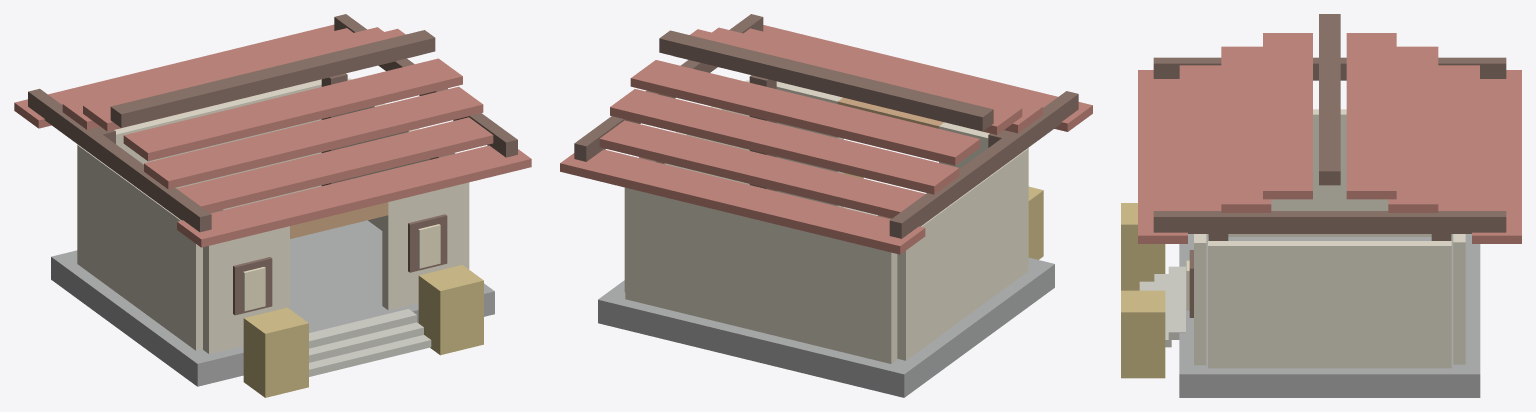
Rendered from granary_6m.glb.
The picture shows the model from 3 angles, left to right: view 1: azimuth 30°, elevation 25°; view 2: azimuth 150°, elevation 25°; view 3: azimuth 270°, elevation 25°; orthographic projection. The views are drawn at different scales.
Parts seen in each view (by area): view 1: roof_red, plaster, wood_dark, stone, straw, stone_light, paper, wood_light; view 2: roof_red, plaster, wood_dark, stone, straw, wood_light; view 3: roof_red, plaster, wood_dark, stone, straw, stone_light.
Part boxes in pixels (box(x1,y1,x2,y2)): roof_red: box(14, 24, 531, 247); plaster: box(77, 78, 469, 353); wood_dark: box(28, 14, 517, 315); stone: box(51, 220, 494, 386); straw: box(243, 265, 483, 397); stone_light: box(309, 309, 431, 376); paper: box(243, 224, 440, 311); wood_light: box(290, 202, 388, 238); roof_red: box(560, 25, 1092, 254); plaster: box(624, 80, 1028, 363); wood_dark: box(574, 14, 1078, 238); stone: box(598, 257, 1054, 397); straw: box(844, 173, 1043, 259); wood_light: box(837, 97, 943, 128); roof_red: box(1138, 33, 1521, 243); plaster: box(1194, 109, 1465, 368); wood_dark: box(1153, 14, 1506, 317); stone: box(1179, 234, 1480, 397); straw: box(1121, 203, 1165, 378); stone_light: box(1139, 266, 1185, 347).
Bounding box in the file's own units: 7.55 × 4.91 × 7.73.
